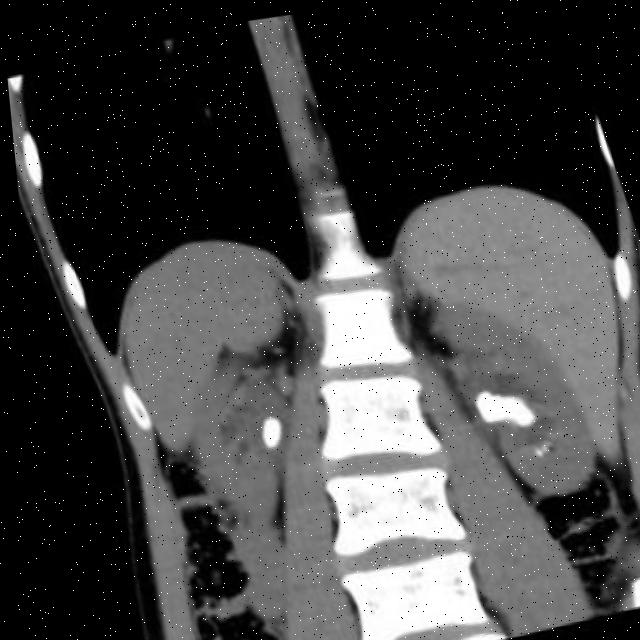Tas_Var: (459, 360, 545, 441), (240, 405, 288, 455), (532, 431, 550, 449), (525, 441, 541, 455)
